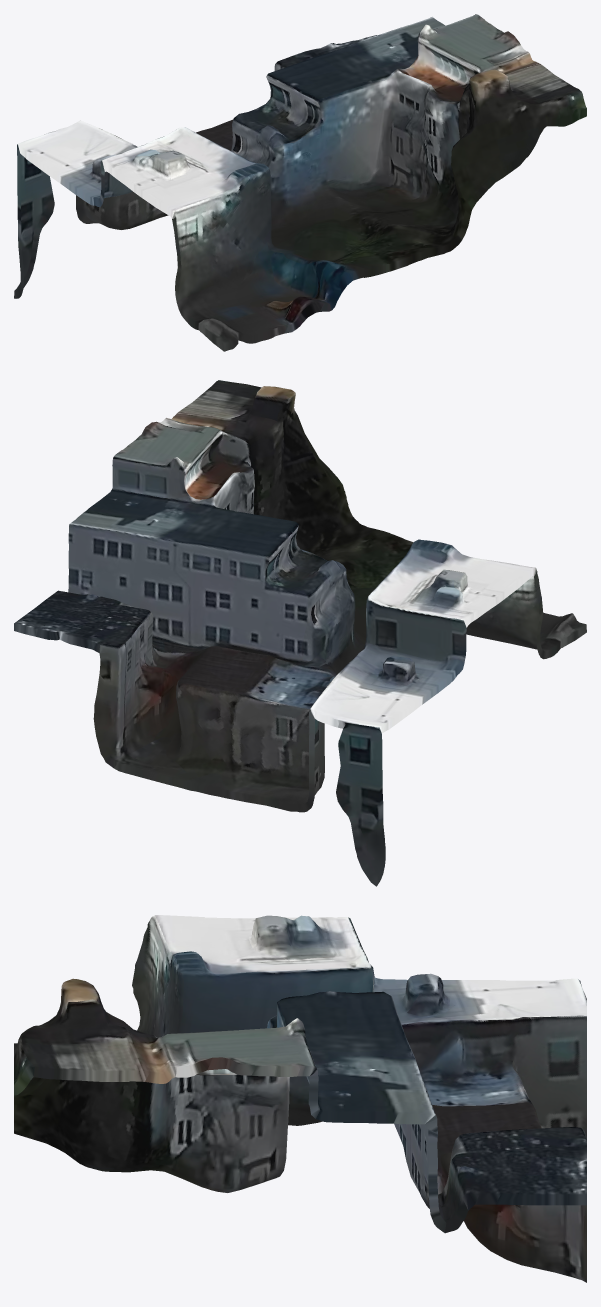
The model's file is z20-167752-405195-h0-yup-uvflip-v3-world.glb.
The picture shows the model from 3 angles, top to bottom: view 1: azimuth 30°, elevation 25°; view 2: azimuth 150°, elevation 25°; view 3: azimuth 270°, elevation 25°; orthographic projection. The views are drawn at different scales.
Bounding box in the file's own units: 30.2 × 23.04 × 30.32.
1 material, 1 textured.
